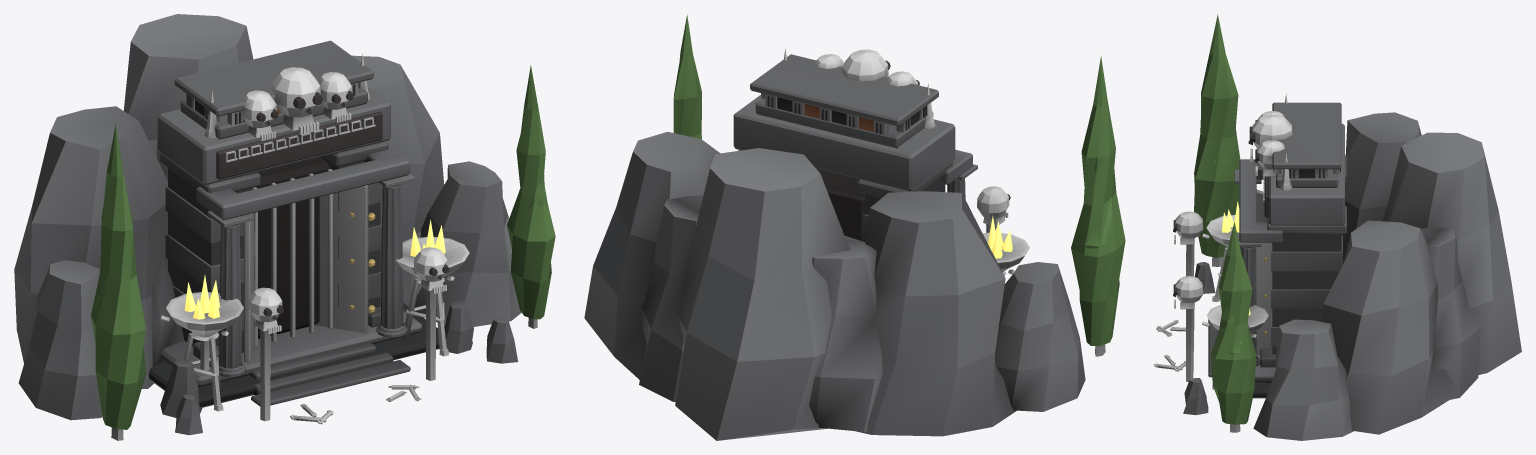
Rendered from gate-of-hades-l1.glb.
3 views of the same model, side by side, from view 1: azimuth 30°, elevation 25°; view 2: azimuth 150°, elevation 25°; view 3: azimuth 270°, elevation 25° (orthographic). The views are drawn at different scales.
Visible parts, largest first — view 1: gate-of-hades-l1; view 2: gate-of-hades-l1; view 3: gate-of-hades-l1.
Boxes of the visible parts, <box> form: gate-of-hades-l1: <box>14,14,555,440</box>; gate-of-hades-l1: <box>584,14,1125,440</box>; gate-of-hades-l1: <box>1154,14,1521,440</box>.
Bounding box in the file's own units: 1.61 × 1.02 × 1.33.
